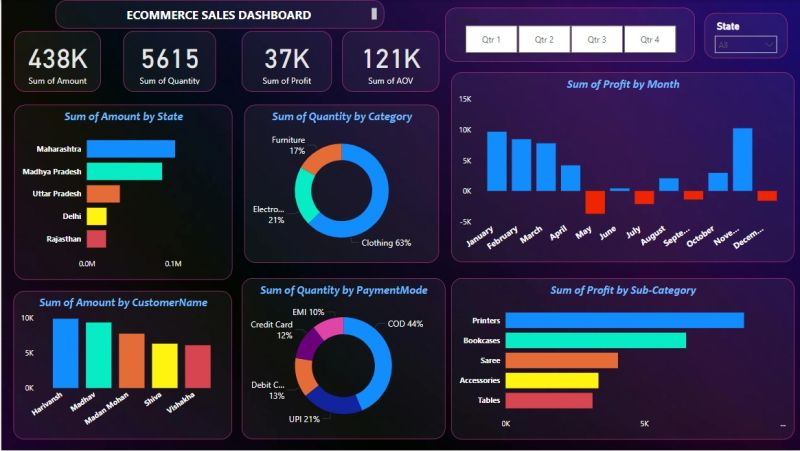

The page's visual inventory and layout, read from the dashboard file:
{"tool":"powerbi","page":{"name":"Page 1","canvas":[1280,720],"ordinal":0},"visuals":[{"type":"textbox","box":[86.4,0,525.6,45.3],"z":0},{"type":"columnChart","fields":{"Category":["Orders.Order Date.Variation.Date Hierarchy.Month"],"Y":["Details.Profit"]},"box":[719,114.6,548.9,304],"z":1000},{"type":"barChart","fields":{"Category":["Details.Sub-Category"],"Y":["Details.Profit"]},"box":[719,445.2,548.9,258.2],"z":2000},{"type":"donutChart","fields":{"Category":["Details.Category"],"Y":["Details.Quantity"]},"box":[388.3,167.4,311.5,252.5],"z":3000},{"type":"donutChart","fields":{"Y":["Details.Quantity"],"Category":["Details.PaymentMode"]},"box":[384.2,444.6,325.2,258],"z":4000},{"type":"card","fields":{"Values":["Details.Amount"]},"box":[20.6,49.4,138.6,97.4],"z":5000},{"type":"card","fields":{"Values":["Details.Quantity"]},"box":[194.9,49.4,148.2,97.4],"z":6000},{"type":"card","fields":{"Values":["Details.Profit"]},"box":[384.2,49.4,144.1,97.4],"z":7000},{"type":"card","fields":{"Values":["Details.AOV"]},"box":[544.8,49.4,156.4,93.3],"z":8000},{"type":"barChart","fields":{"Category":["Orders.State"],"Y":["Details.Amount"]},"box":[20.6,167.4,348.5,279.9],"z":9000},{"type":"columnChart","fields":{"Category":["Orders.CustomerName"],"Y":["Details.Amount"]},"box":[19.2,465.2,349.9,237.4],"z":10000},{"type":"slicer","fields":{"Values":["Orders.Order Date.Variation.Date Hierarchy.Quarter"]},"box":[709.4,12.3,399.3,86.4],"z":10001},{"type":"slicer","fields":{"Values":["Orders.State"]},"box":[1123.8,20.6,133.1,72.7],"z":10002}]}

Visuals, with their boxes in screenshot pixels (x1, y1, x2, y2), scaled from the page's 1280x720 canvas onto the 800x451 screenshot:
textbox: <bbox>54, 0, 382, 28</bbox>
columnChart - Orders.Order Date.Variation.Date Hierarchy.Month x Details.Profit: <bbox>449, 72, 792, 262</bbox>
barChart - Details.Sub-Category x Details.Profit: <bbox>449, 279, 792, 441</bbox>
donutChart - Details.Category x Details.Quantity: <bbox>243, 105, 437, 263</bbox>
donutChart - Details.Quantity x Details.PaymentMode: <bbox>240, 278, 443, 440</bbox>
card - Details.Amount: <bbox>13, 31, 100, 92</bbox>
card - Details.Quantity: <bbox>122, 31, 214, 92</bbox>
card - Details.Profit: <bbox>240, 31, 330, 92</bbox>
card - Details.AOV: <bbox>340, 31, 438, 89</bbox>
barChart - Orders.State x Details.Amount: <bbox>13, 105, 231, 280</bbox>
columnChart - Orders.CustomerName x Details.Amount: <bbox>12, 291, 231, 440</bbox>
slicer - Orders.Order Date.Variation.Date Hierarchy.Quarter: <bbox>443, 8, 693, 62</bbox>
slicer - Orders.State: <bbox>702, 13, 786, 58</bbox>
